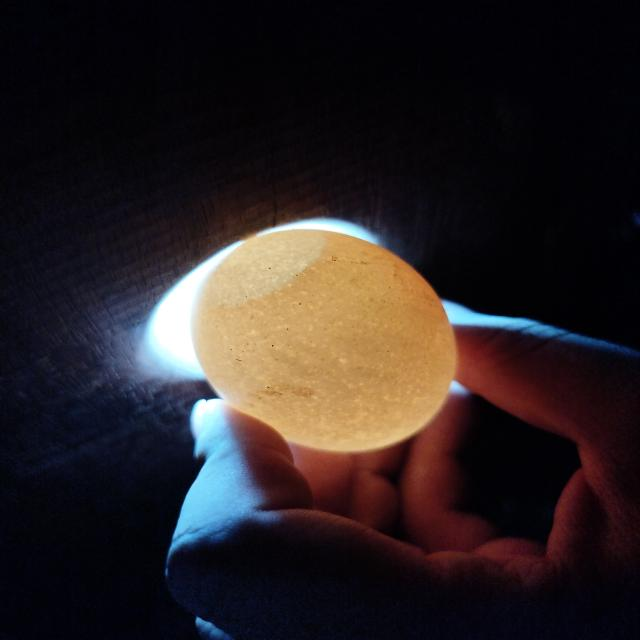Camara de Ar: (204, 229, 324, 306)
